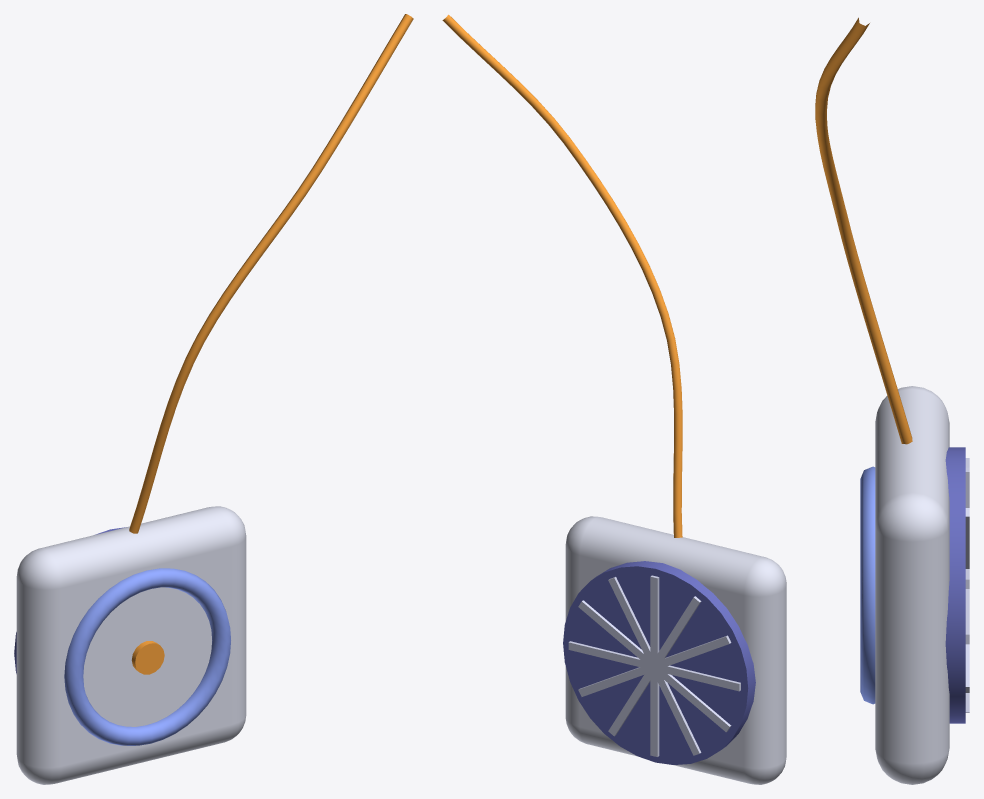
The model's file is windowCleaner.glb.
3 renders of one model, left to right at view 1: azimuth 30°, elevation 25°; view 2: azimuth 150°, elevation 25°; view 3: azimuth 270°, elevation 25°, orthographic. The views are drawn at different scales.
Parts seen in each view (by area): view 1: body, ring, rope, suctionLed; view 2: pad, body, rope; view 3: body, pad, rope, ring.
Part boxes in pixels (x1,y1,x2,y2): body: [16, 506, 246, 784]; ring: [64, 568, 230, 745]; rope: [129, 14, 413, 533]; suctionLed: [131, 641, 164, 674]; pad: [563, 561, 755, 764]; body: [565, 516, 786, 784]; rope: [442, 14, 682, 537]; body: [875, 386, 949, 784]; pad: [945, 447, 969, 723]; rope: [815, 17, 912, 444]; ring: [860, 466, 875, 704].
Size of the model in its own units: 0.5041 by 0.9043 by 0.1454.
